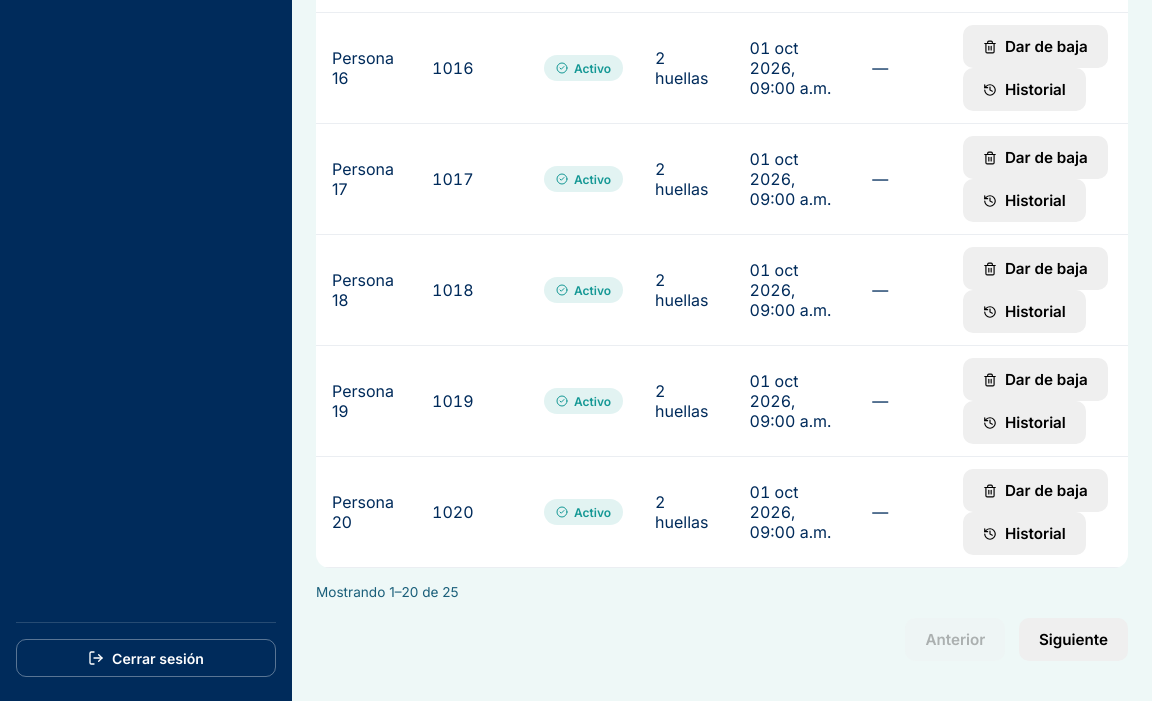
Test: UsuariosTerminalPage › pagina de 20 en 20 sobre lo cargado
(page scrolled)
Check: the text "Mostrando 1–20 de 25" is shown, box x1=316 y1=584 x2=459 y2=600
Check: the text "Persona 25" is not shown
Click the button "Siguiente" at (1073, 640), box x1=1019 y1=618 x2=1128 y2=661
(page scrolled)
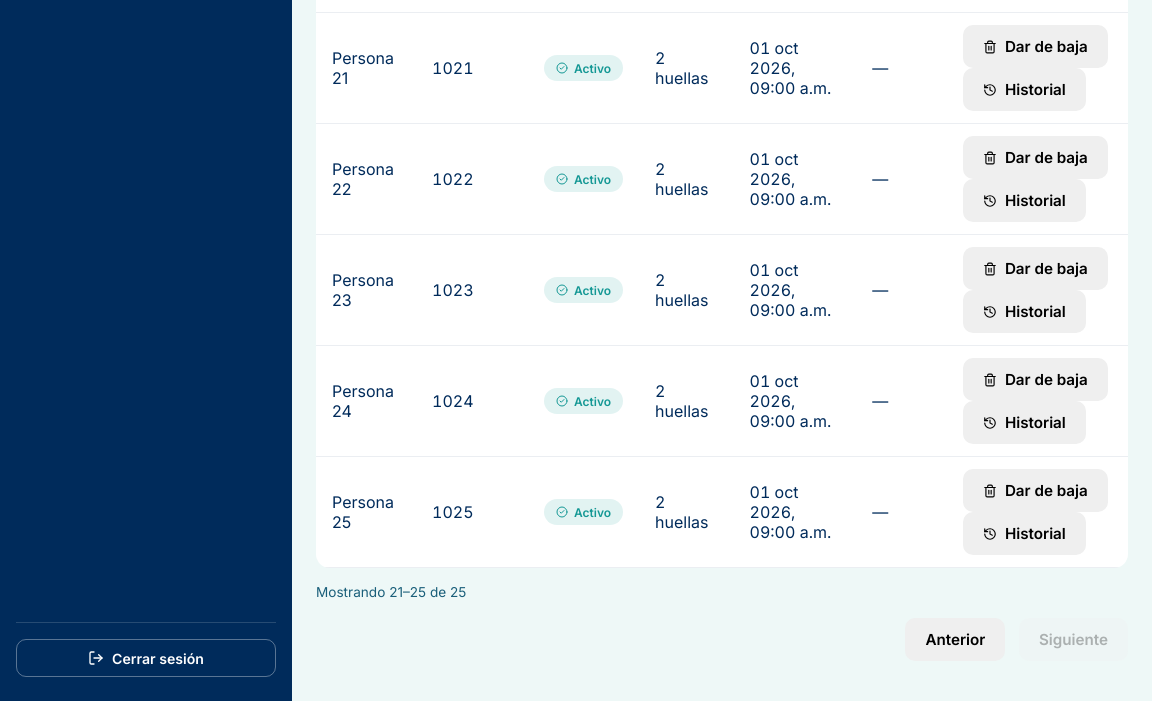
Check: the text "Persona 25" is shown, box x1=316 y1=457 x2=416 y2=568
Check: the text "Mostrando 21–25 de 25" is shown, box x1=316 y1=584 x2=466 y2=600
